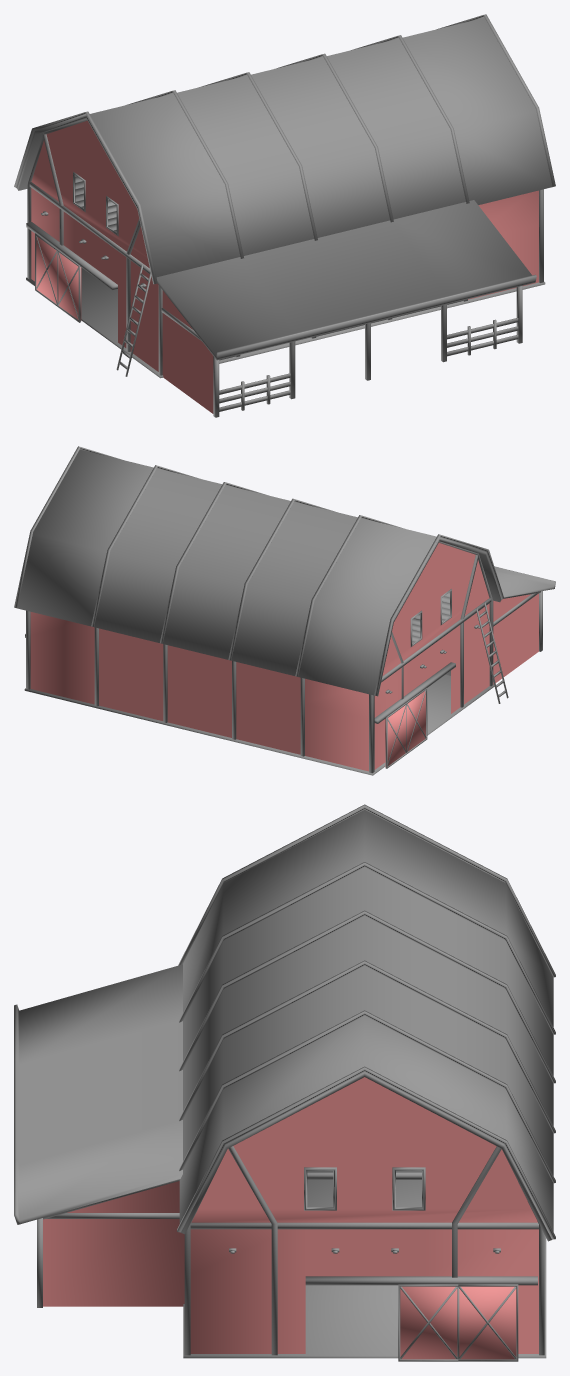
The model's file is SM_buildingBarn_01.gltf.
3 renders of one model, top to bottom at view 1: azimuth 30°, elevation 25°; view 2: azimuth 150°, elevation 25°; view 3: azimuth 270°, elevation 25°, orthographic. The views are drawn at different scales.
Visible parts, largest first — view 1: SM_buildingBarn_01; view 2: SM_buildingBarn_01; view 3: SM_buildingBarn_01.
Boxes of the visible parts, x1,y1,x2,y2 form: SM_buildingBarn_01: (14,14,555,417); SM_buildingBarn_01: (14,446,555,775); SM_buildingBarn_01: (14,804,555,1361).
Size of the model in its own units: 22.05 by 11.07 by 18.36.
